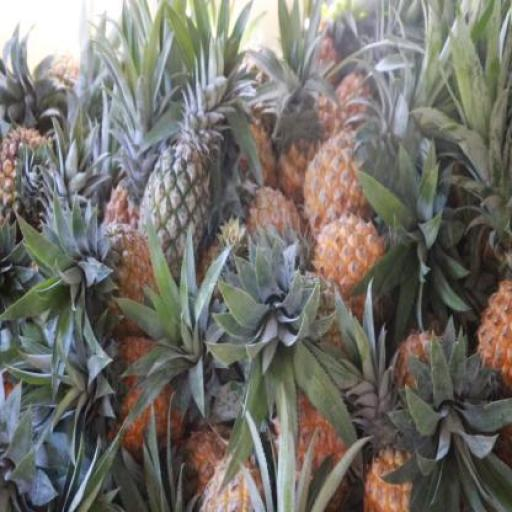Pineapple - v8 v1: (306, 138, 376, 240), (311, 215, 383, 304)
